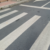zebra: (1, 8, 50, 50)
